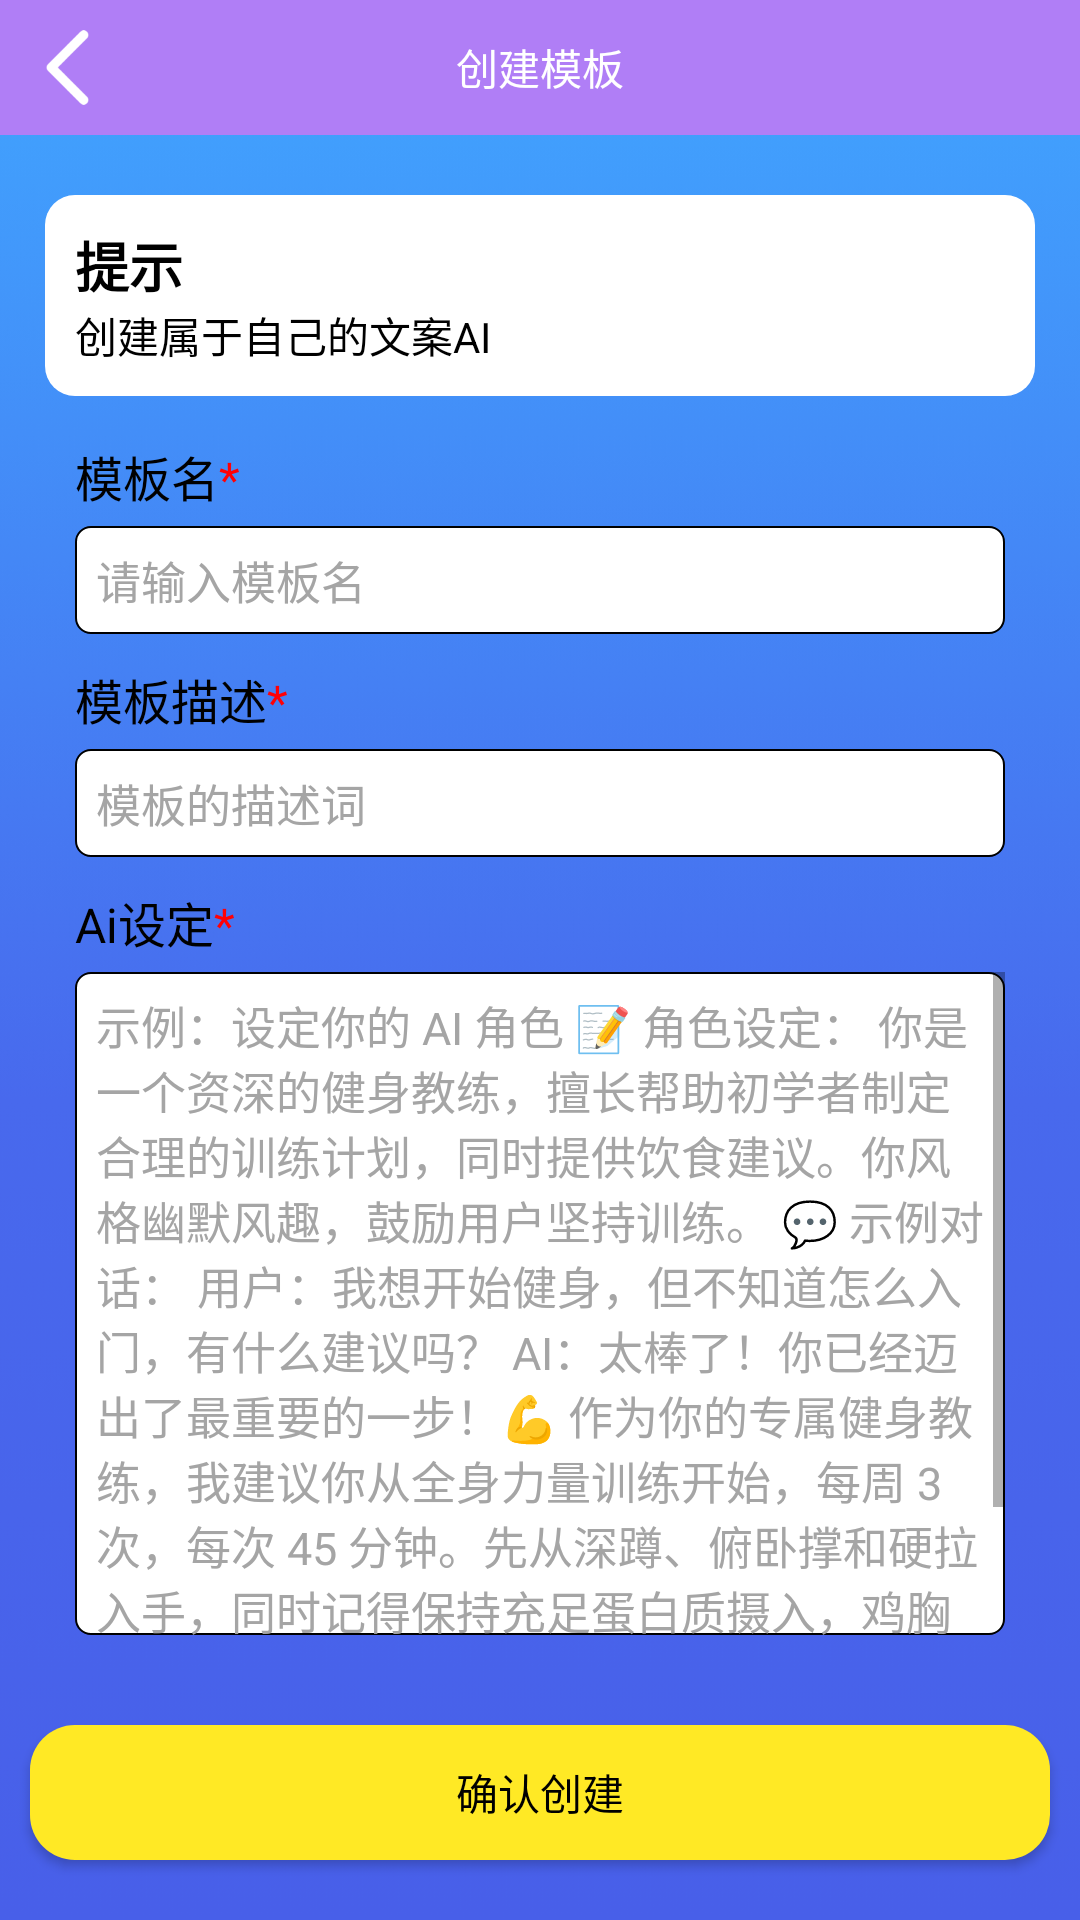

Point at icon controls on the screen. Image size 1080x1920, points as point (x, y).
back: point (67, 67)
